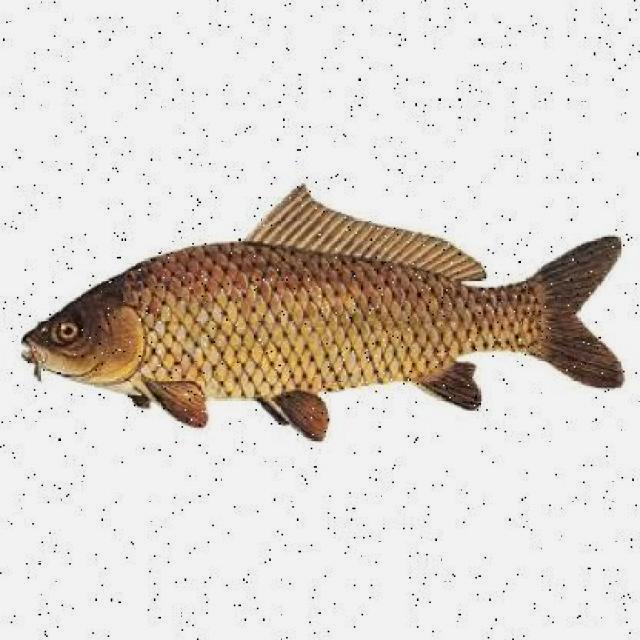ikan-mas: (20, 190, 626, 441)
